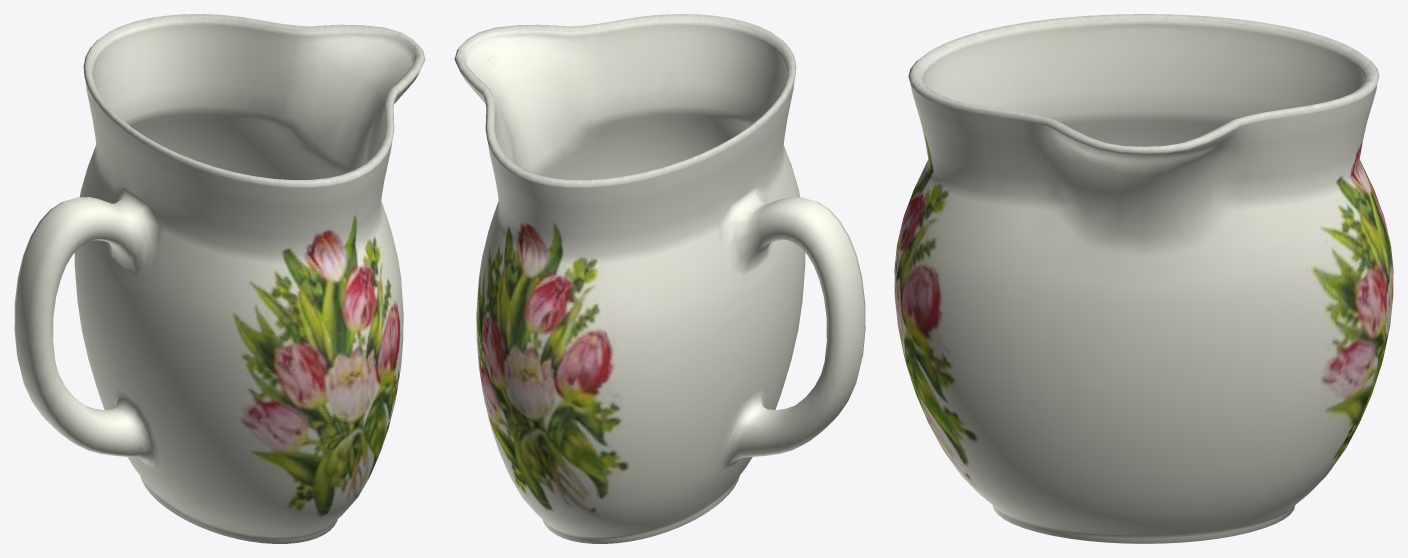
Rendered from ph-jug-01.glb.
3 renders of one model, left to right at view 1: azimuth 30°, elevation 25°; view 2: azimuth 150°, elevation 25°; view 3: azimuth 270°, elevation 25°, orthographic. The views are drawn at different scales.
Parts seen in each view (by area): view 1: jug_01; view 2: jug_01; view 3: jug_01.
Part boxes in pixels (x1=…): jug_01: x1=14, y1=14, x2=425, y2=543; jug_01: x1=454, y1=14, x2=865, y2=543; jug_01: x1=894, y1=14, x2=1393, y2=543.
Bounding box in the file's own units: 1 × 1 × 1.
Materials: 1 (1 with a texture image).
